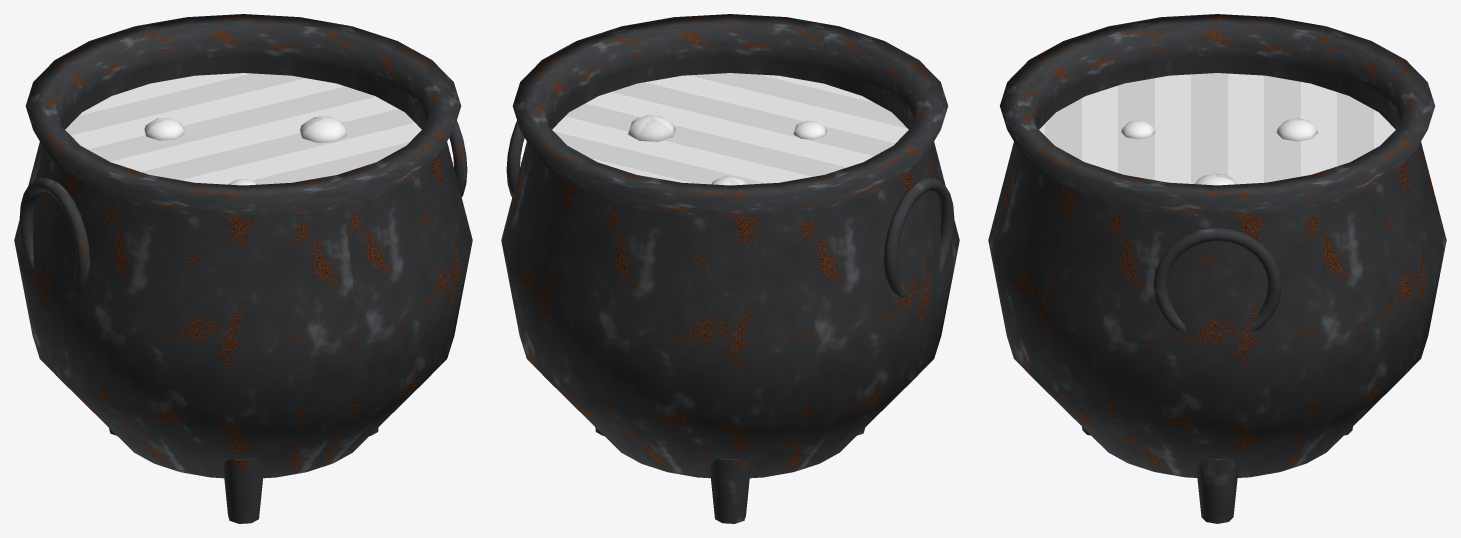
Rendered from cauldron.glb.
The picture shows the model from 3 angles, left to right: view 1: azimuth 30°, elevation 25°; view 2: azimuth 150°, elevation 25°; view 3: azimuth 270°, elevation 25°; orthographic projection.
Parts seen in each view (by area): view 1: cauldron, dyn_color_tint; view 2: cauldron, dyn_color_tint; view 3: cauldron, dyn_color_tint.
Boxes of the visible parts, x1,y1,x2,y2 form: cauldron: (14, 14, 472, 523); dyn_color_tint: (65, 73, 421, 185); cauldron: (501, 14, 959, 523); dyn_color_tint: (552, 73, 908, 185); cauldron: (988, 14, 1446, 523); dyn_color_tint: (1039, 73, 1395, 185).
Size of the model in its own units: 1 by 0.8502 by 1.
2 materials, 2 textured.
